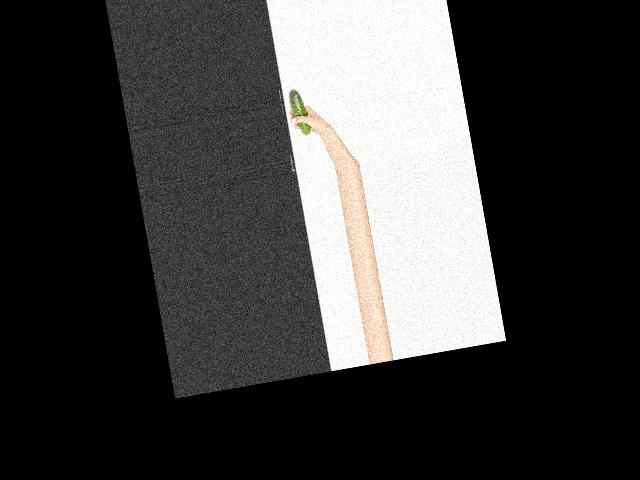cucumber: (286, 86, 311, 136)
